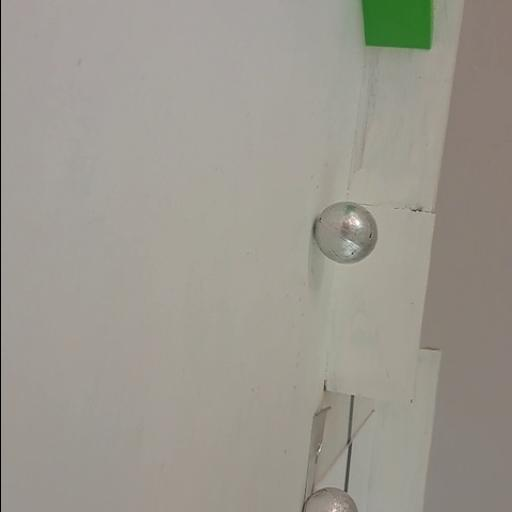alive: (310, 200, 380, 268), (301, 486, 359, 512)
